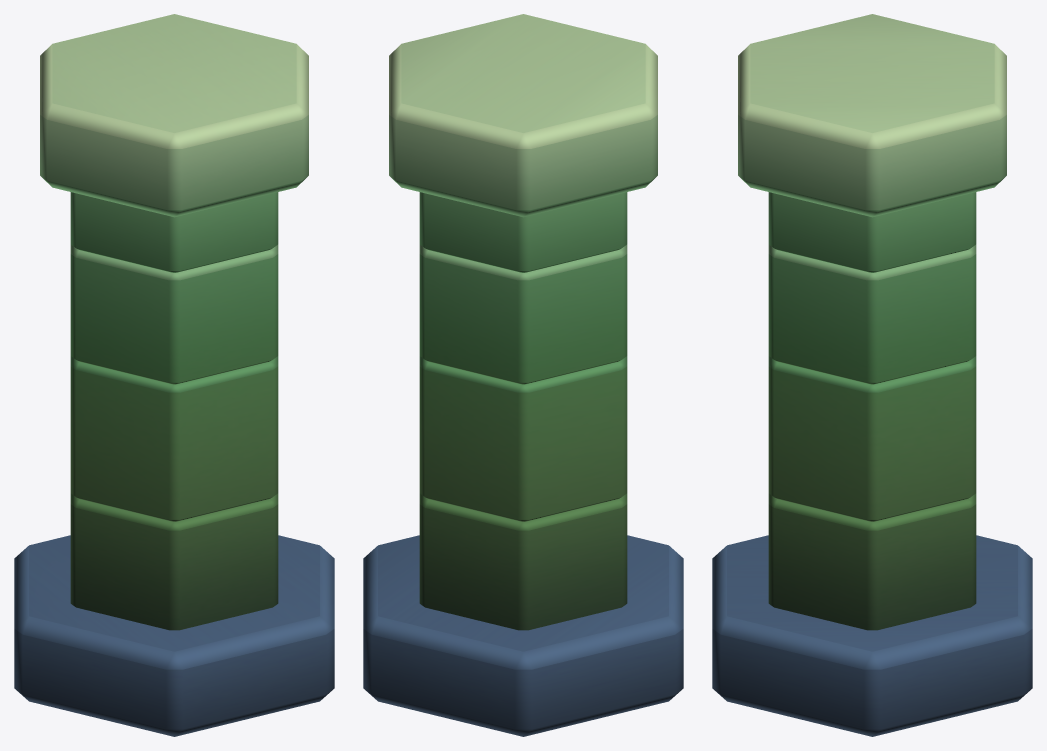
The model's file is pillar.fbx.
3 views of the same model, side by side, from view 1: azimuth 30°, elevation 25°; view 2: azimuth 150°, elevation 25°; view 3: azimuth 270°, elevation 25° (orthographic).
Visible parts, largest first — view 1: pillar; view 2: pillar; view 3: pillar.
Boxes of the visible parts, x1,y1,x2,y2 form: pillar: (14, 14, 334, 736); pillar: (363, 14, 683, 736); pillar: (712, 14, 1032, 736).
Bounding box in the file's own units: 225 × 408 × 200.
